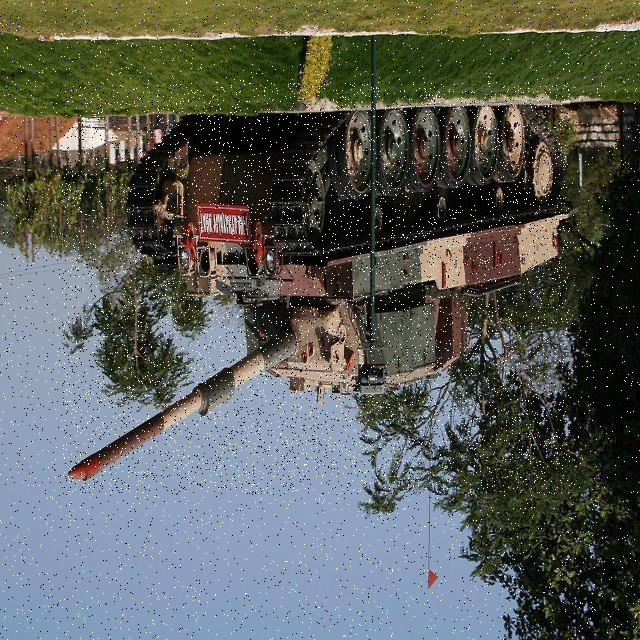MIL_MBT: (62, 82, 570, 494)
